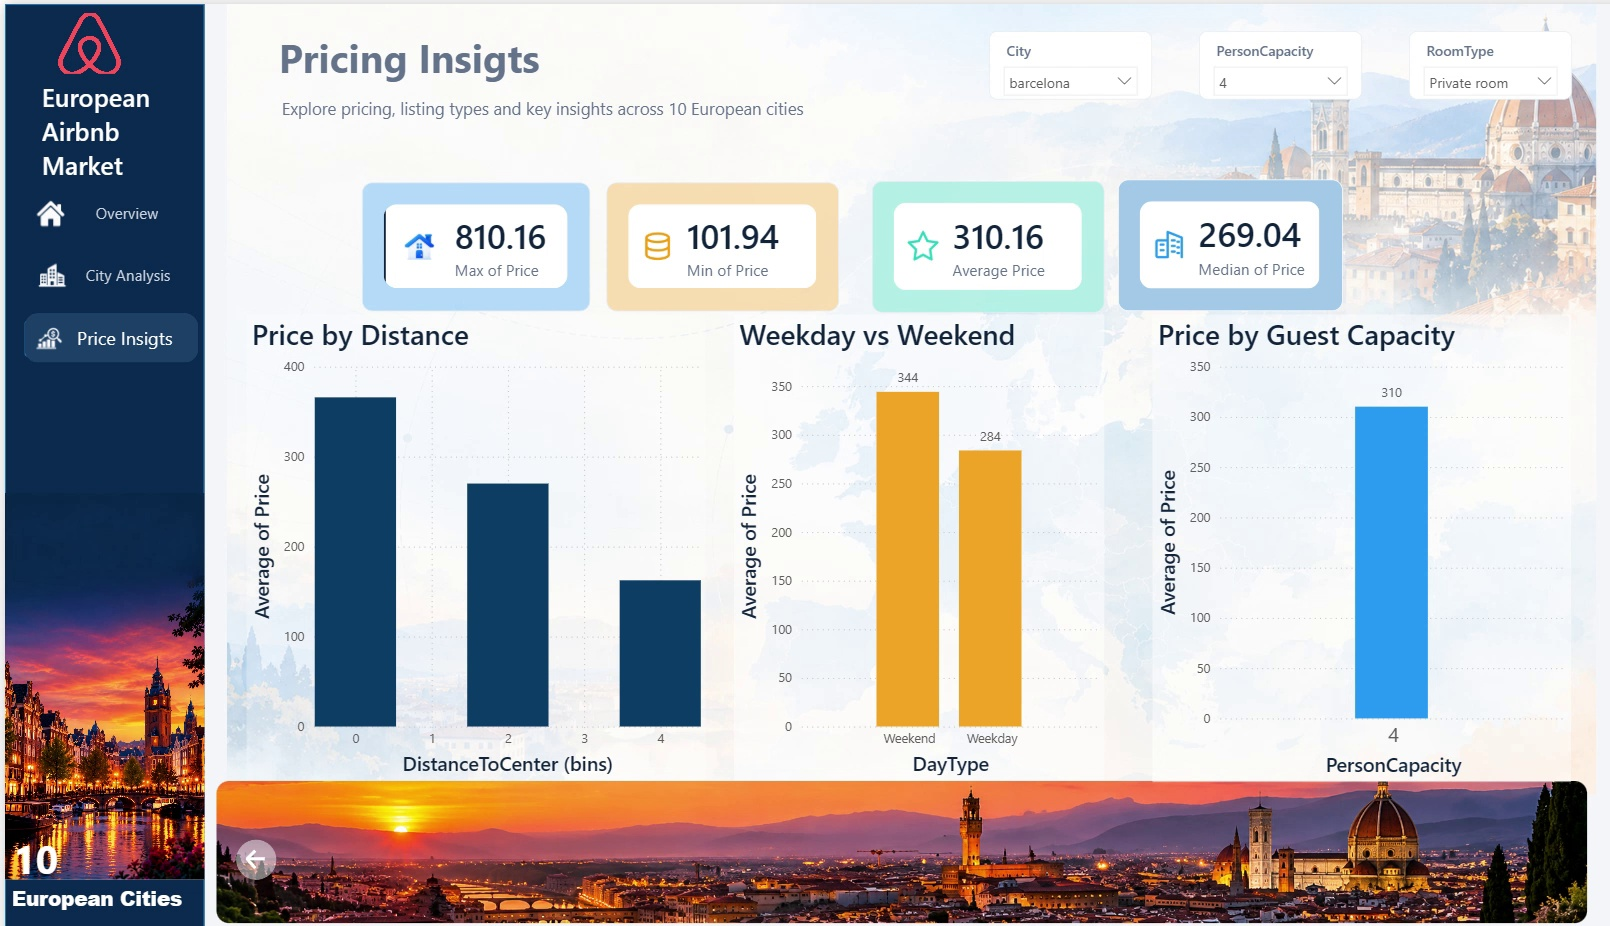

This screenshot's page, from the dashboard's own definition file:
{"tool":"powerbi","page":{"name":"Price Insigts","canvas":[1600,900],"ordinal":2},"visuals":[{"type":"image","box":[211,0,1304.3,752.9],"z":0},{"type":"shape","box":[0,0,190,900],"z":1000},{"type":"textbox","box":[30,66.9,128.1,150],"z":2000},{"type":"shape","box":[15.5,300.9,11.8,34.5],"z":3000},{"type":"actionButton","box":[18.2,294.5,165.5,47.3],"z":4000},{"type":"actionButton","box":[22.1,235.7,157.9,44.3],"z":5000},{"type":"actionButton","box":[21.4,177.1,158.6,44.3],"z":6000},{"type":"image","box":[0,465.6,190,367.8],"z":8000},{"type":"textbox","box":[2.2,783.3,56.7,67.8],"z":9000},{"type":"textbox","box":[1.1,833.3,188.9,66.7],"z":10000},{"type":"image","box":[201.2,740,1305,135],"z":11000},{"type":"textbox","box":[255,20,720,68.8],"z":13000},{"type":"textbox","box":[258.3,82.9,535,53.8],"z":14000},{"type":"slicer","fields":{"Values":["Airbnb_Gold_Master.City"]},"box":[936.7,25.4,155,65],"z":15000},{"type":"slicer","fields":{"Values":["Airbnb_Gold_Master.PersonCapacity"]},"box":[1144.2,25.4,155,65],"z":16000},{"type":"slicer","fields":{"Values":["Airbnb_Gold_Master.RoomType"]},"box":[1336.7,25.4,155,65],"z":17000},{"type":"cardVisual","fields":{"Data":["Max(Airbnb_Gold_Master.Price)"]},"box":[340,170,217.5,122.5],"z":18000},{"type":"cardVisual","fields":{"Data":["Min(Airbnb_Gold_Master.Price)"]},"box":[572.5,170,221.2,122.5],"z":19000},{"type":"cardVisual","fields":{"Data":["Airbnb_Gold_Master.Average Price"]},"box":[825,168.8,221.2,125],"z":20000},{"type":"cardVisual","fields":{"Data":["Median(Airbnb_Gold_Master.Price)"]},"box":[1060,167.5,213.8,125],"z":21000},{"type":"actionButton","box":[220,795,38.6,38.6],"z":22000},{"type":"clusteredColumnChart","title":"Weekday vs Weekend","fields":{"Category":["Airbnb_Gold_Master.DayType"],"Y":["Avg(Airbnb_Gold_Master.Price)"]},"box":[693.8,295,352.5,443.8],"z":23000},{"type":"clusteredColumnChart","title":"Price by Guest Capacity","fields":{"Category":["Airbnb_Gold_Master.PersonCapacity"],"Y":["Avg(Airbnb_Gold_Master.Price)"]},"box":[1092.5,295,398.8,445],"z":24000},{"type":"clusteredColumnChart","title":"Price by Distance","fields":{"Category":["Airbnb_Gold_Master.DistanceToCenter (bins)"],"Y":["Avg(Airbnb_Gold_Master.Price)"]},"box":[230,296.2,437.5,443.8],"z":25000},{"type":"image","box":[30,20,99.1,57.3],"z":25001}]}

Visuals, with their boxes on the page's 1600x900 design canvas (x1, y1, x2, y2). These are canvas units, not pixel positions in the 1610x926 screenshot, which may show the page scaled, cropped or inside an application window:
image: (211, 0, 1515, 753)
shape: (0, 0, 190, 900)
textbox: (30, 67, 158, 217)
shape: (16, 301, 27, 335)
actionButton: (18, 294, 184, 342)
actionButton: (22, 236, 180, 280)
actionButton: (21, 177, 180, 221)
image: (0, 466, 190, 833)
textbox: (2, 783, 59, 851)
textbox: (1, 833, 190, 900)
image: (201, 740, 1506, 875)
textbox: (255, 20, 975, 89)
textbox: (258, 83, 793, 137)
slicer - Airbnb_Gold_Master.City: (937, 25, 1092, 90)
slicer - Airbnb_Gold_Master.PersonCapacity: (1144, 25, 1299, 90)
slicer - Airbnb_Gold_Master.RoomType: (1337, 25, 1492, 90)
cardVisual - Max(Airbnb_Gold_Master.Price): (340, 170, 558, 292)
cardVisual - Min(Airbnb_Gold_Master.Price): (572, 170, 794, 292)
cardVisual - Airbnb_Gold_Master.Average Price: (825, 169, 1046, 294)
cardVisual - Median(Airbnb_Gold_Master.Price): (1060, 168, 1274, 292)
actionButton: (220, 795, 259, 834)
"Weekday vs Weekend" clusteredColumnChart: (694, 295, 1046, 739)
"Price by Guest Capacity" clusteredColumnChart: (1092, 295, 1491, 740)
"Price by Distance" clusteredColumnChart: (230, 296, 668, 740)
image: (30, 20, 129, 77)
